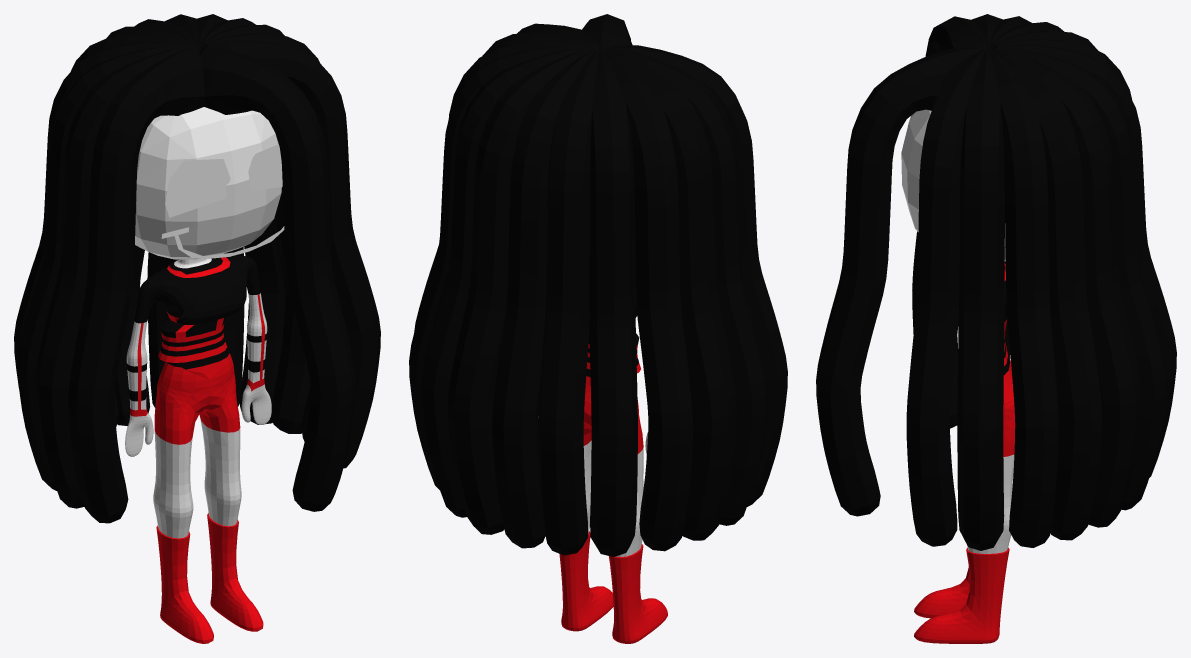
File: Мамка.fbx
3 renders of one model, left to right at view 1: azimuth 30°, elevation 25°; view 2: azimuth 150°, elevation 25°; view 3: azimuth 270°, elevation 25°, orthographic. The views are drawn at different scales.
Visible parts, largest first — view 1: Cube; view 2: Cube; view 3: Cube.
Part boxes in pixels (left/top/right/bottom): Cube: left=14, top=14, right=380, bottom=643; Cube: left=409, top=14, right=787, bottom=643; Cube: left=816, top=14, right=1176, bottom=643.
Bounding box in the file's own units: 179 × 304 × 171.
